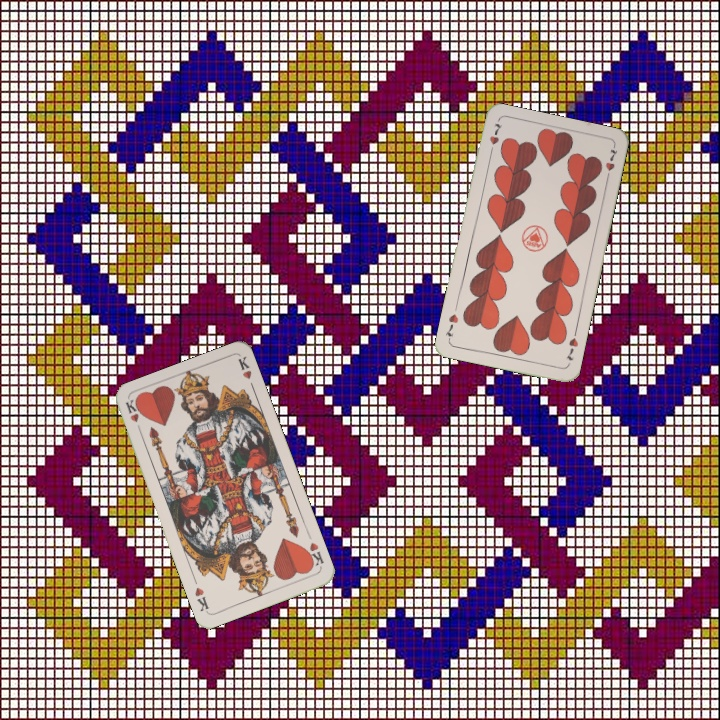H7: (485, 118, 504, 158), (562, 334, 581, 363)
HK: (121, 396, 144, 436), (301, 538, 326, 570)
